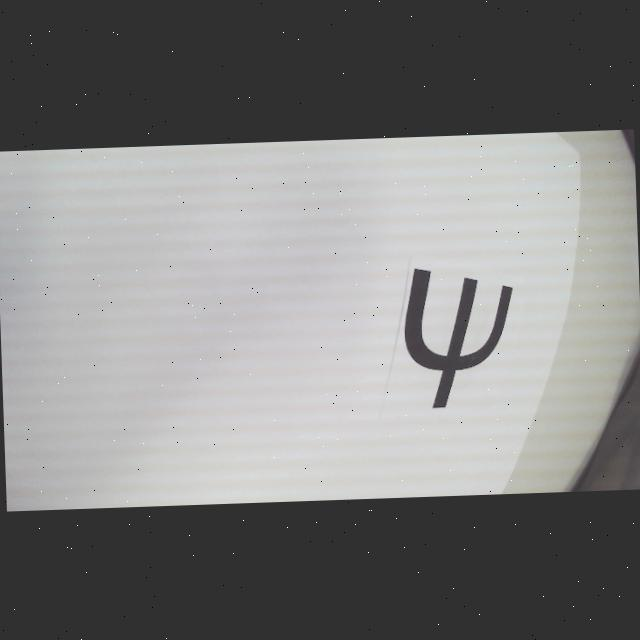PSI: (402, 264, 517, 408)
